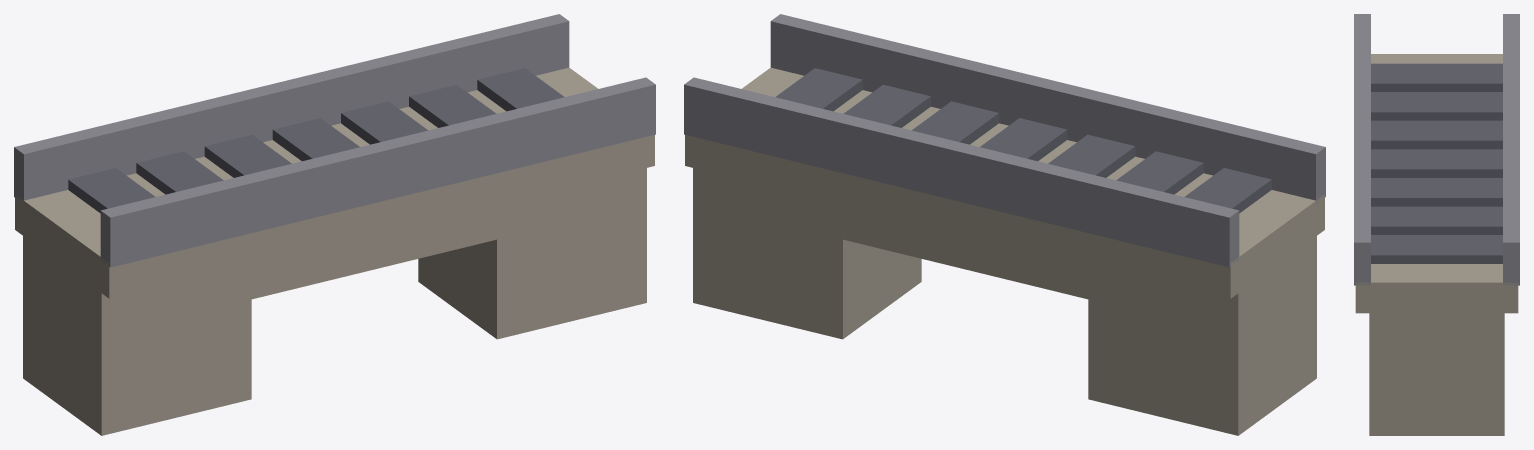
Rendered from town_stone_arch_bridge.glb.
3 renders of one model, left to right at view 1: azimuth 30°, elevation 25°; view 2: azimuth 150°, elevation 25°; view 3: azimuth 270°, elevation 25°, orthographic. The views are drawn at different scales.
Visible parts, largest first — view 1: stone_arch_bridge; view 2: stone_arch_bridge; view 3: stone_arch_bridge.
Boxes of the visible parts, x1,y1,x2,y2 form: stone_arch_bridge: [14, 14, 655, 435]; stone_arch_bridge: [684, 14, 1325, 435]; stone_arch_bridge: [1354, 14, 1519, 435].
Size of the model in its own units: 8 by 3.15 by 2.45.
